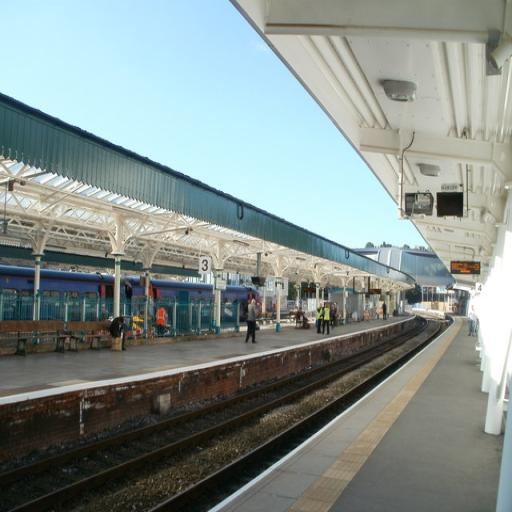platform_edge: (216, 316, 462, 511), (0, 363, 180, 404)
